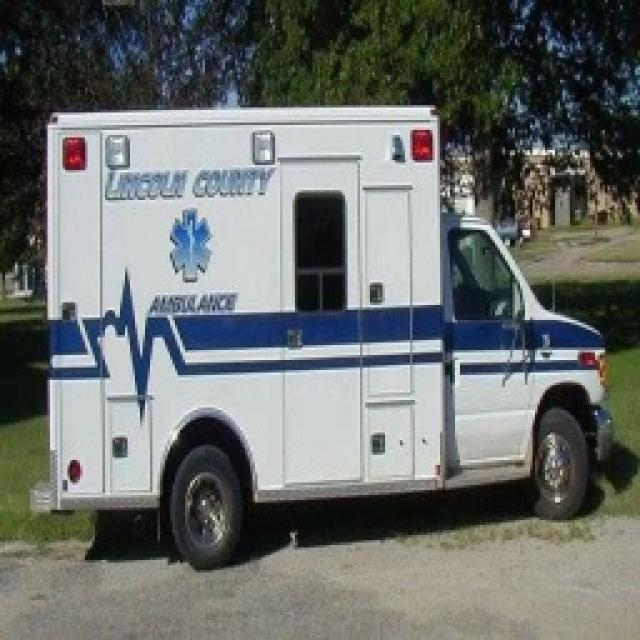emergency-vehicle: (48, 112, 610, 573)
